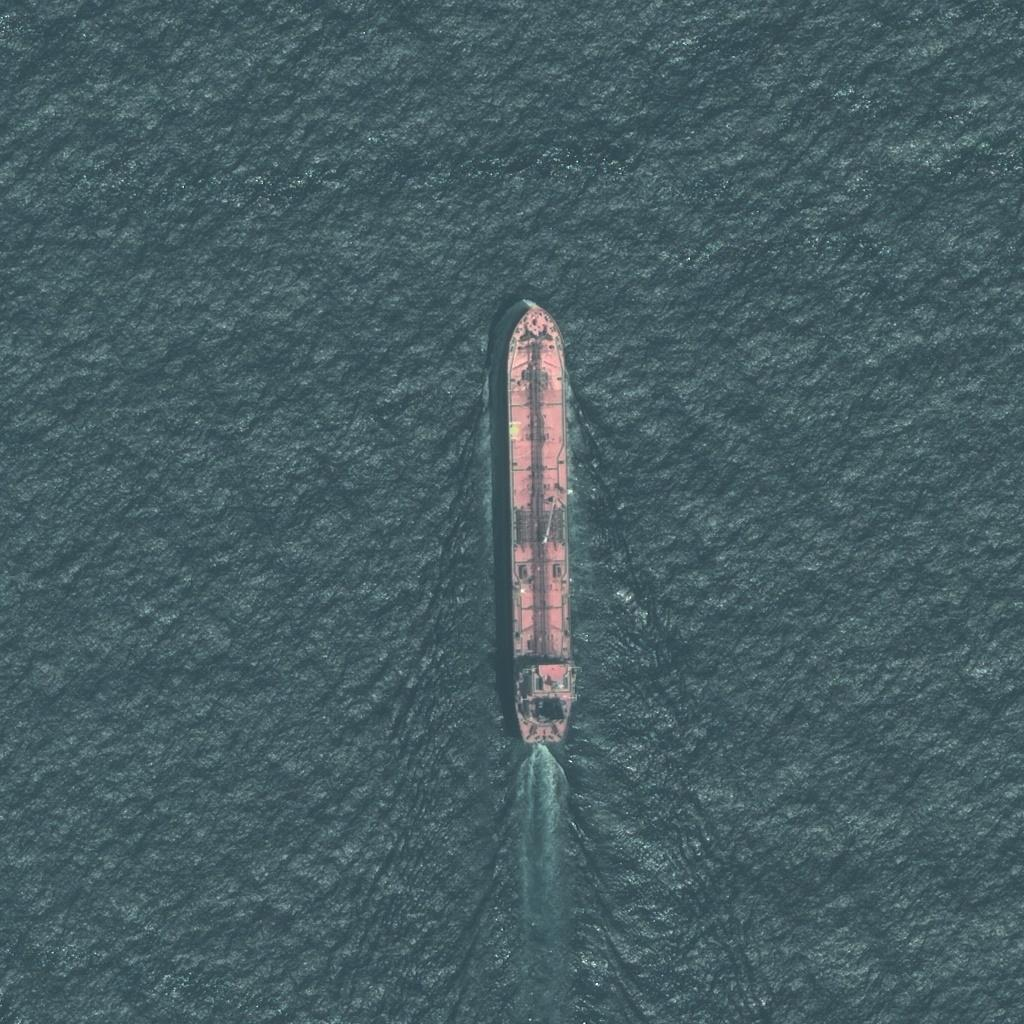ship: (483, 304, 559, 748)
